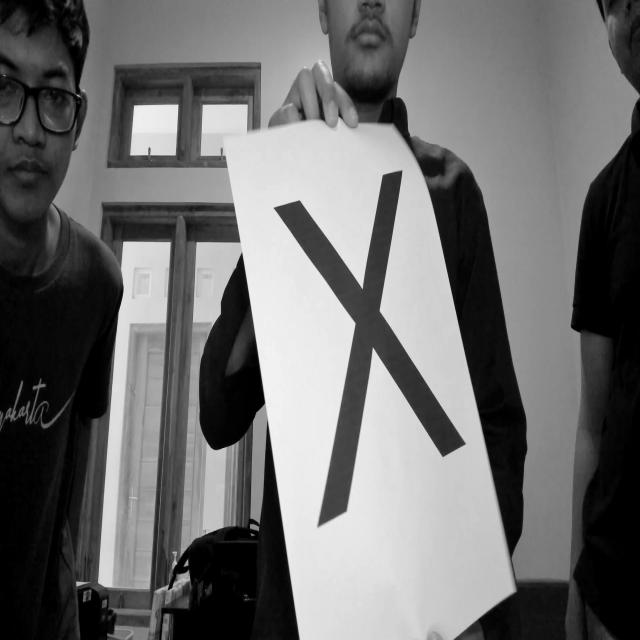x: (253, 156, 492, 557)
